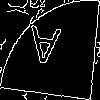A: (25, 25, 62, 75)
